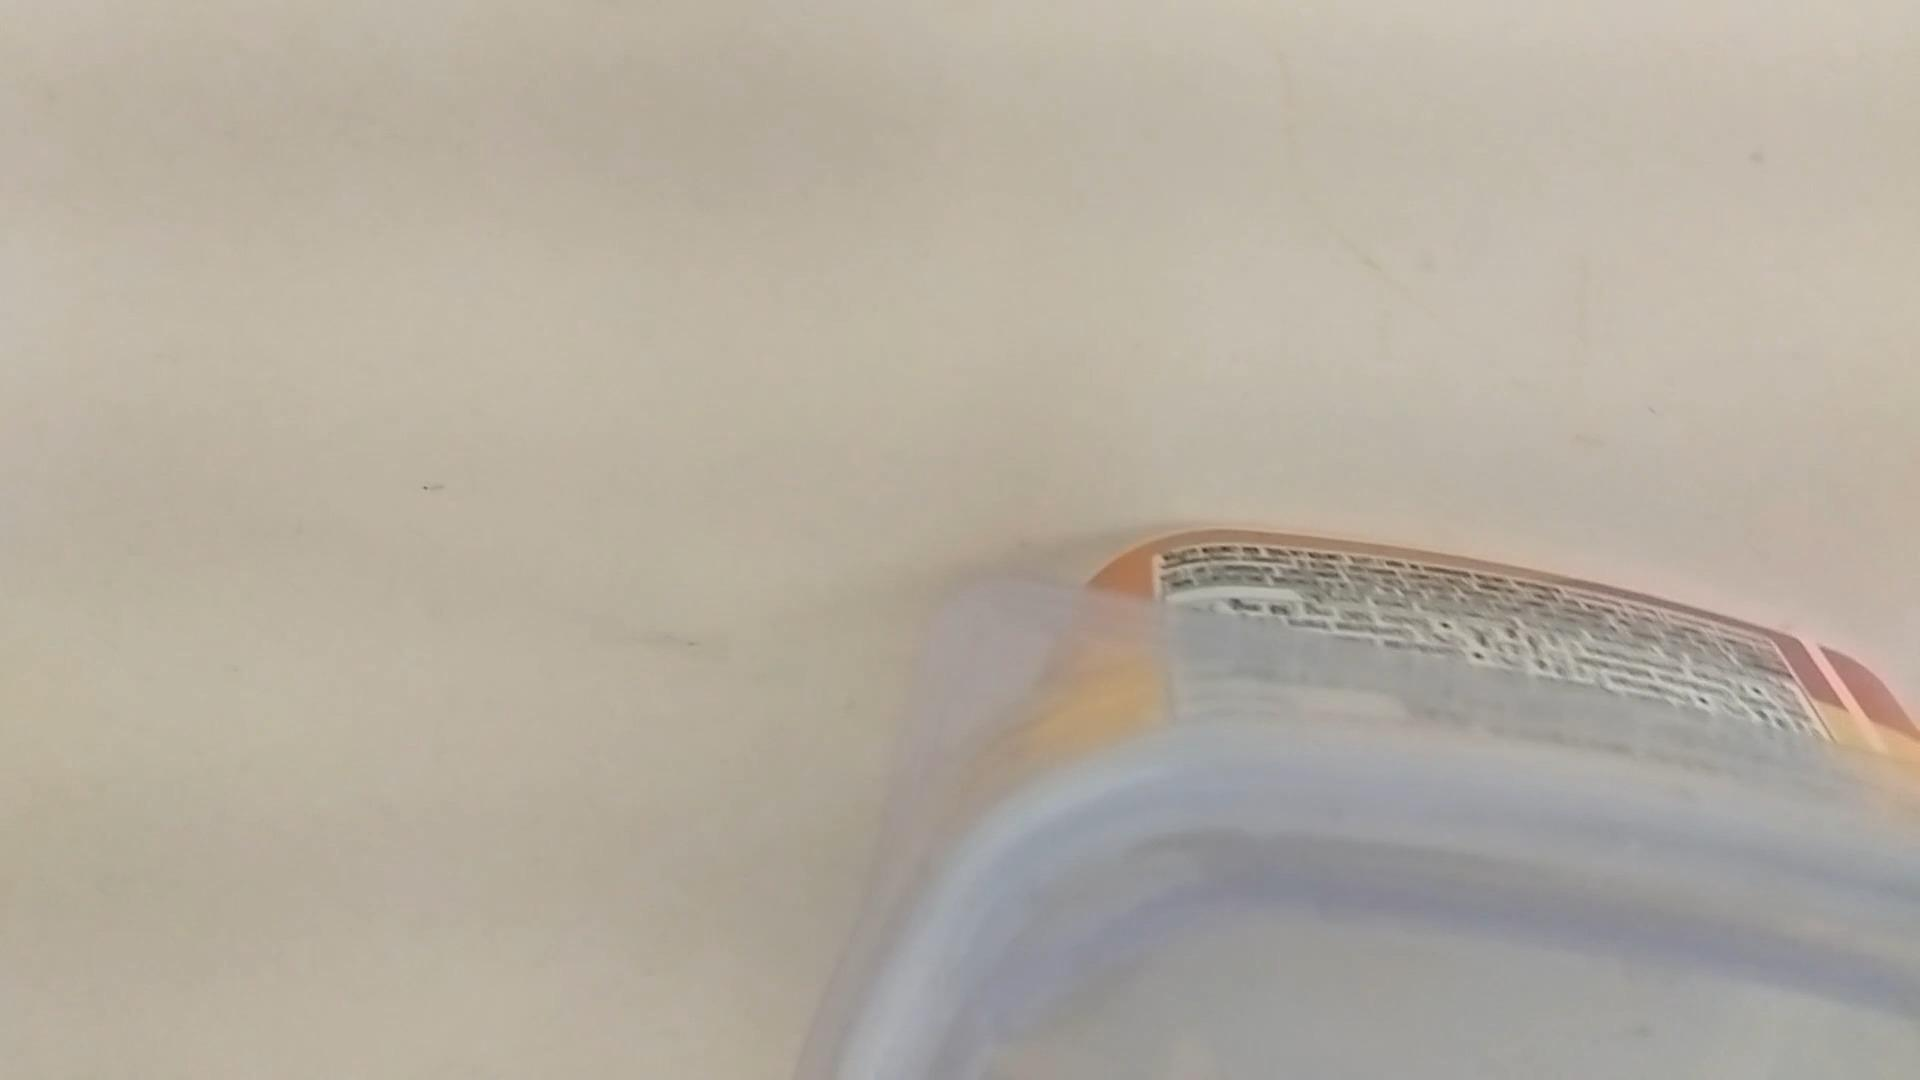butter: (753, 516, 1920, 1080)
